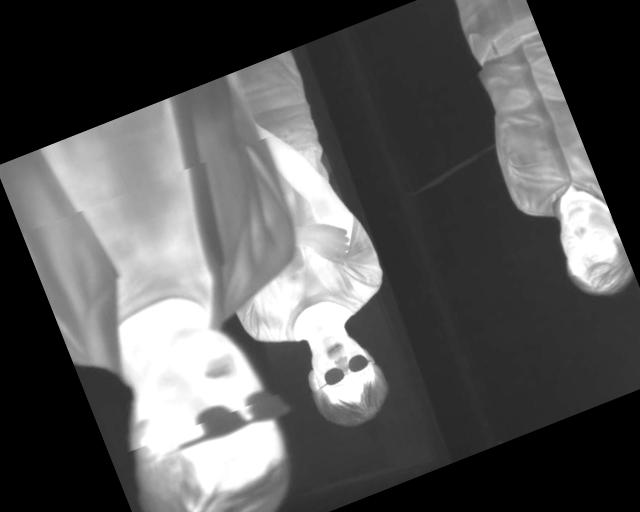face: (92, 314, 314, 512), (293, 317, 399, 437), (541, 188, 638, 310)
